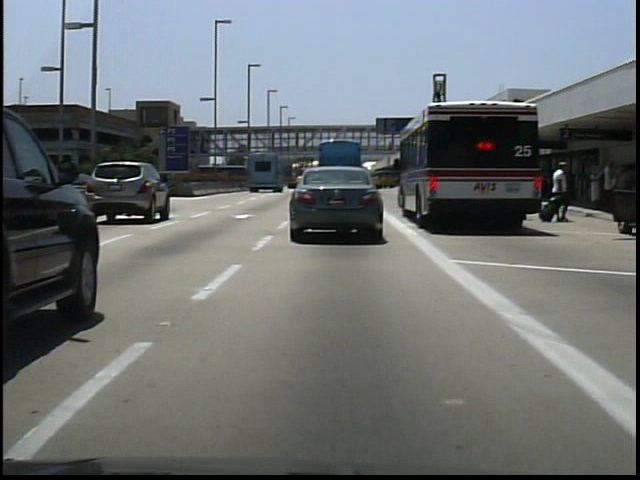person: (547, 158, 572, 226)
